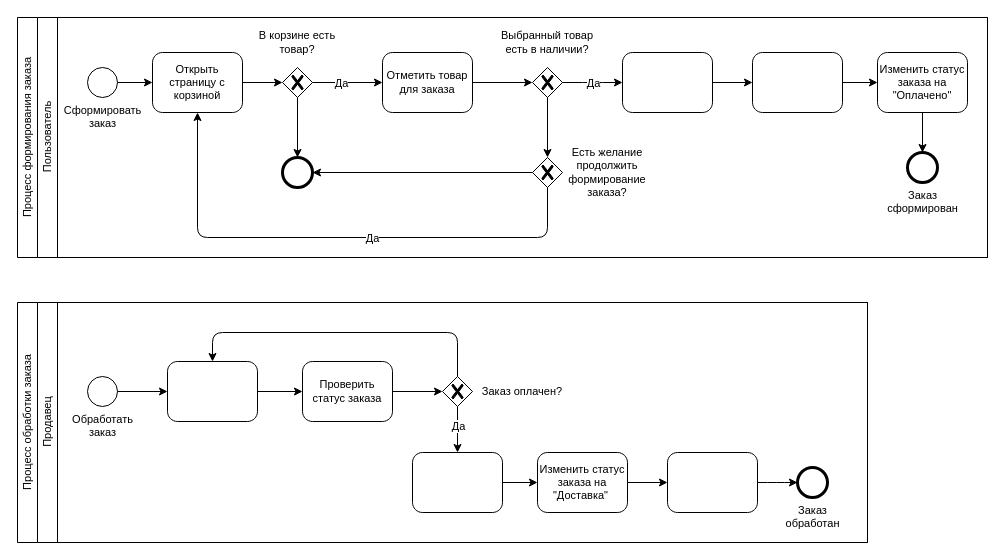
The diagram is 1005 pixels wide and 560 high, and some of its shapes have lost their labels. Each missing label, with the box of its shape:
Ввести данные для заказа: (622, 52, 712, 112)
Заказ не сформирован: (282, 156, 312, 188)
Изменить статус заказа на "Доставлен": (666, 452, 758, 512)
Изменить статус заказа на "Сборка": (412, 452, 502, 512)
Оплатить заказ: (752, 52, 842, 112)
Открыть страницу с доступными заказами: (166, 360, 258, 422)
